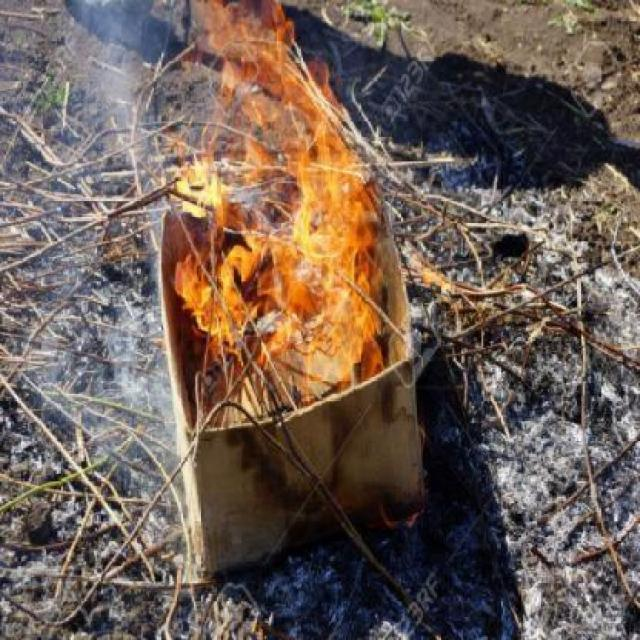box: (152, 124, 445, 585)
